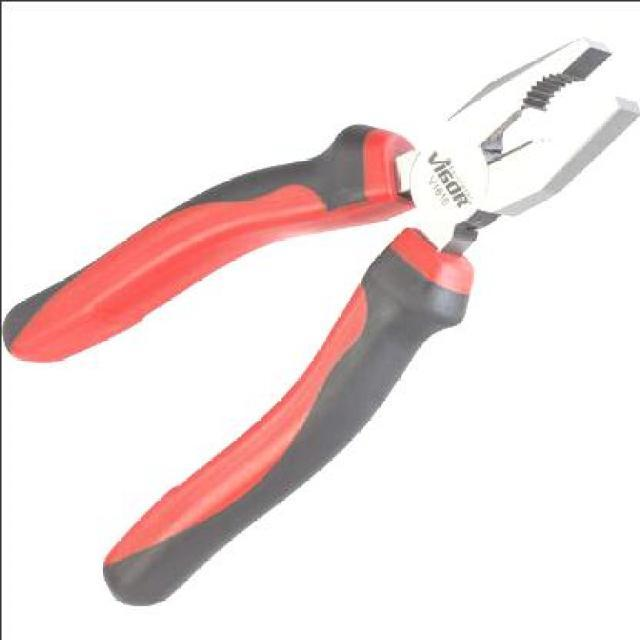pliers: (3, 39, 640, 606)
